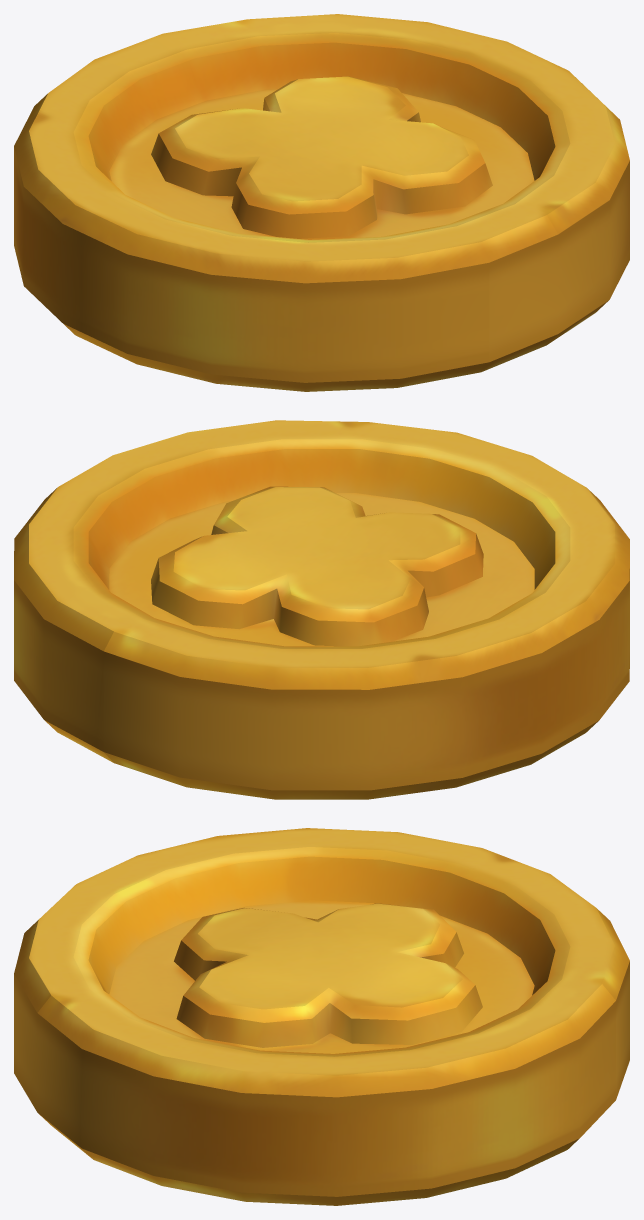
Rendered from Coin.fbx.
3 renders of one model, top to bottom at view 1: azimuth 30°, elevation 25°; view 2: azimuth 150°, elevation 25°; view 3: azimuth 270°, elevation 25°, orthographic.
Parts seen in each view (by area): view 1: Coin; view 2: Coin; view 3: Coin.
Part boxes in pixels (x1,y1,x2,y2): Coin: (14, 14, 629, 391); Coin: (14, 420, 629, 799); Coin: (14, 828, 629, 1205).
Size of the model in its own units: 59.2 by 13.81 by 59.2.
